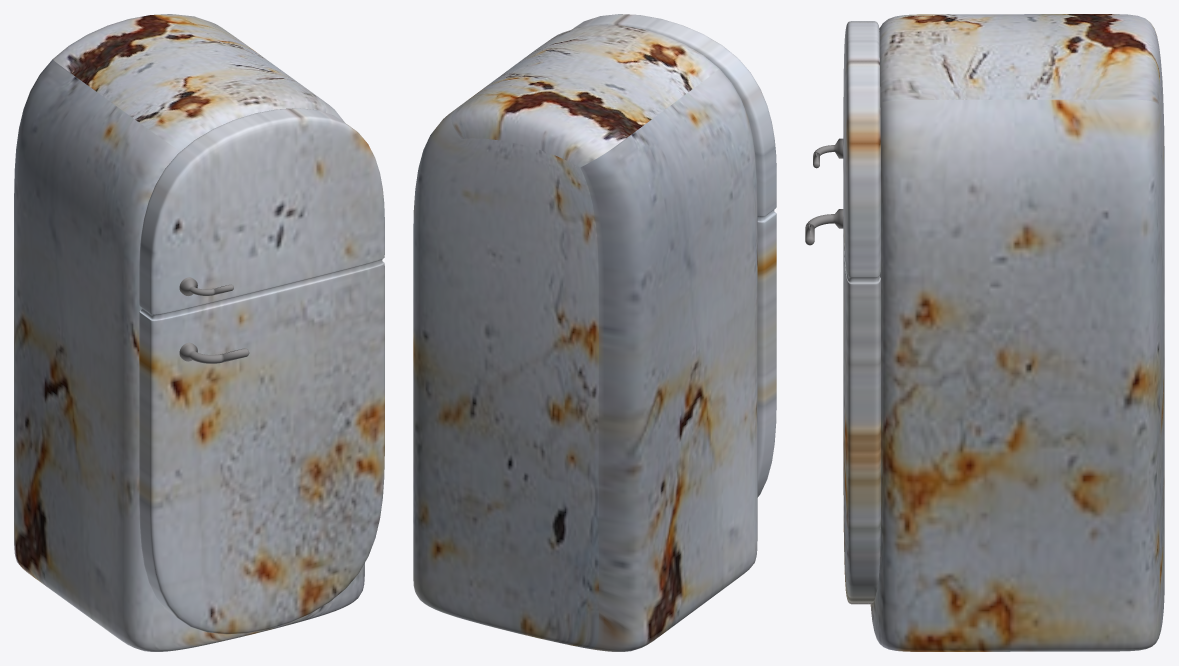
The model's file is Fridge for game.fbx.
The picture shows the model from 3 angles, left to right: view 1: azimuth 30°, elevation 25°; view 2: azimuth 150°, elevation 25°; view 3: azimuth 270°, elevation 25°; orthographic projection. The views are drawn at different scales.
Parts seen in each view (by area): view 1: Cube.001; view 2: Cube.001; view 3: Cube.001.
Part boxes in pixels (x1,y1,x2,y2): Cube.001: [14, 14, 384, 651]; Cube.001: [413, 14, 776, 651]; Cube.001: [805, 14, 1164, 651].
Bounding box in the file's own units: 201 × 419 × 242.
